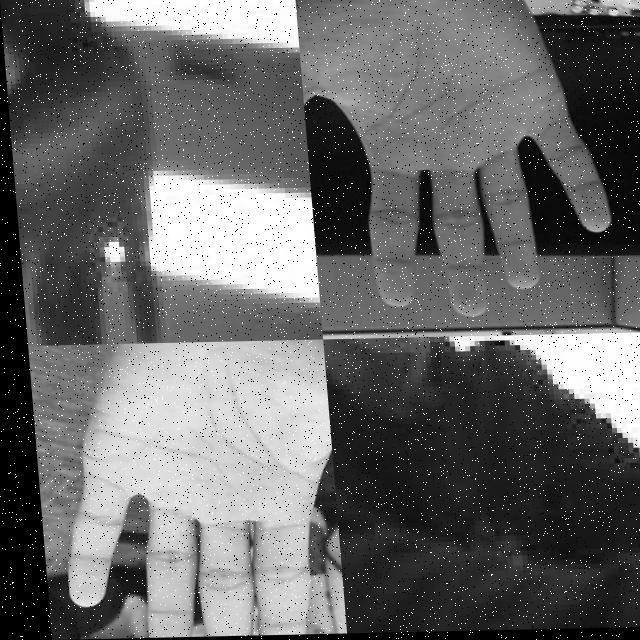no-gloves: (295, 0, 615, 322), (41, 341, 336, 640), (3, 46, 166, 346)
